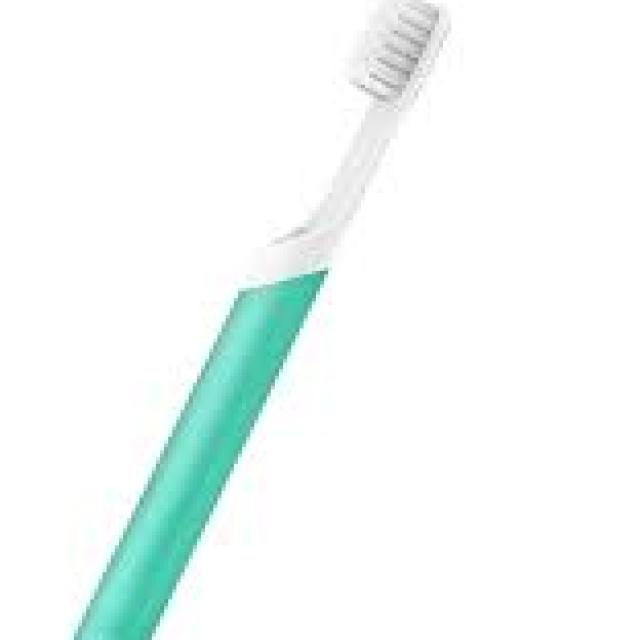organic: (62, 12, 471, 634)
